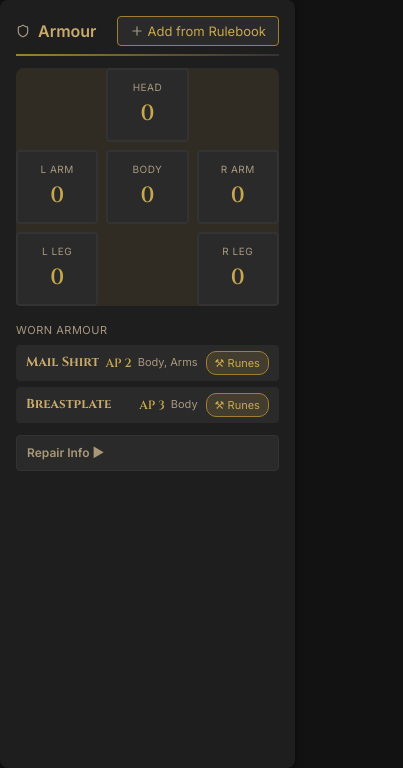
Test: ArmourMap — location selection › shows multiple contributing items for a location
The image size is (403, 768).
Step 1. Click the button with test id "location-body" → (147, 187), box top-left (106, 150), bottom-right (189, 224)
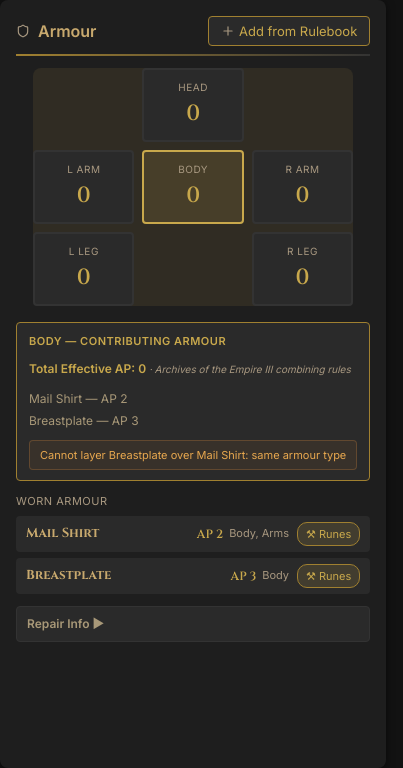
Expected: the element with test id "contributing-armour" shows "Mail Shirt", top-left (29, 390), bottom-right (82, 406)
Expected: the element with test id "contributing-armour" shows "Breastplate", top-left (29, 412), bottom-right (93, 428)
